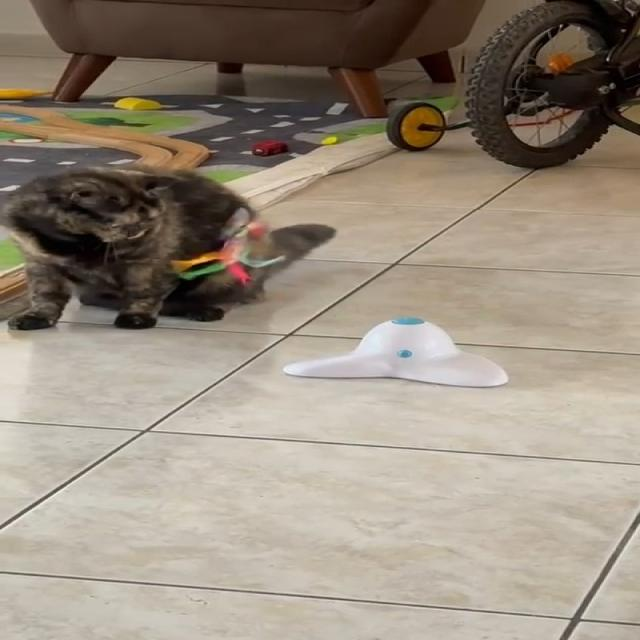authorized: (1, 163, 336, 330)
